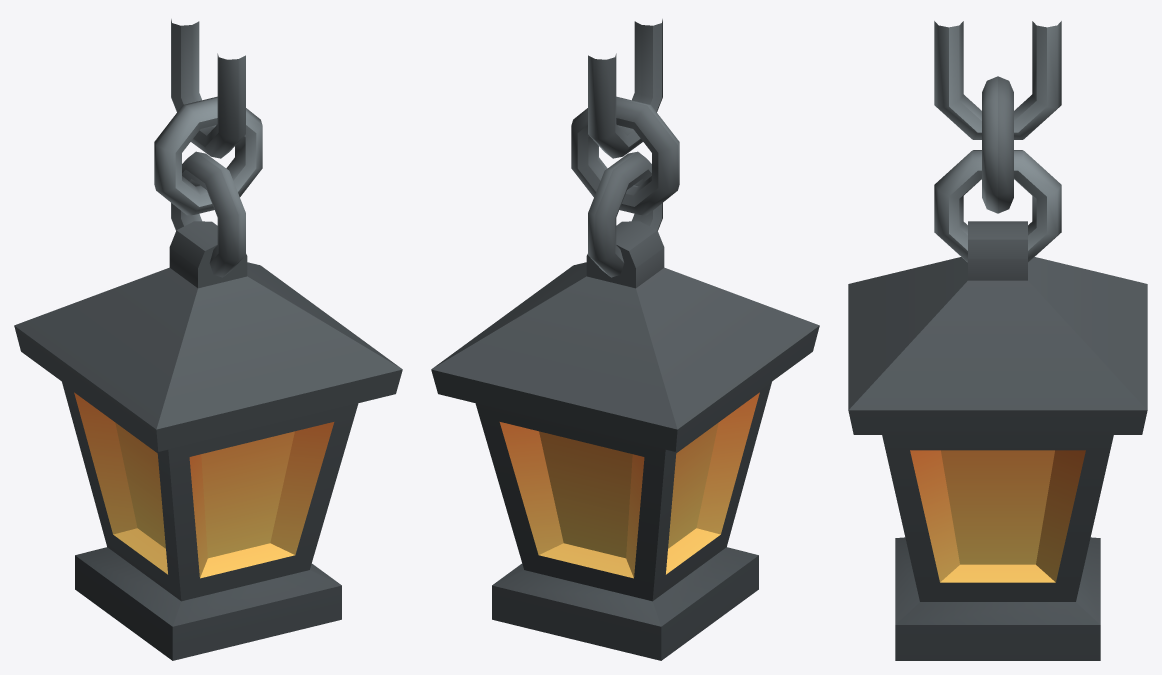
Rendered from cc0-lantern-hanging-lod0.glb.
3 views of the same model, side by side, from view 1: azimuth 30°, elevation 25°; view 2: azimuth 150°, elevation 25°; view 3: azimuth 270°, elevation 25° (orthographic). The views are drawn at different scales.
Parts seen in each view (by area): view 1: part_0; view 2: part_0; view 3: part_0.
Part boxes in pixels (left/top/right/bottom): part_0: left=14, top=19, right=402, bottom=660; part_0: left=431, top=19, right=819, bottom=660; part_0: left=848, top=21, right=1147, bottom=660.
Bounding box in the file's own units: 0.64 × 1.41 × 0.64.
Materials: 1 (1 with a texture image).
